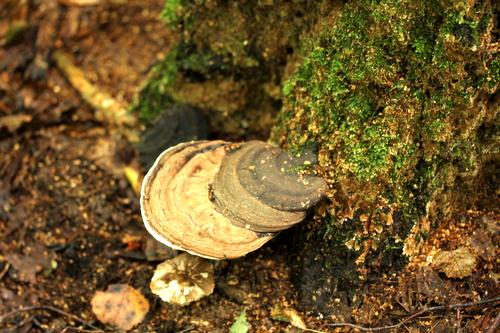Ganoderma - Fruit Body: (137, 138, 322, 257)
